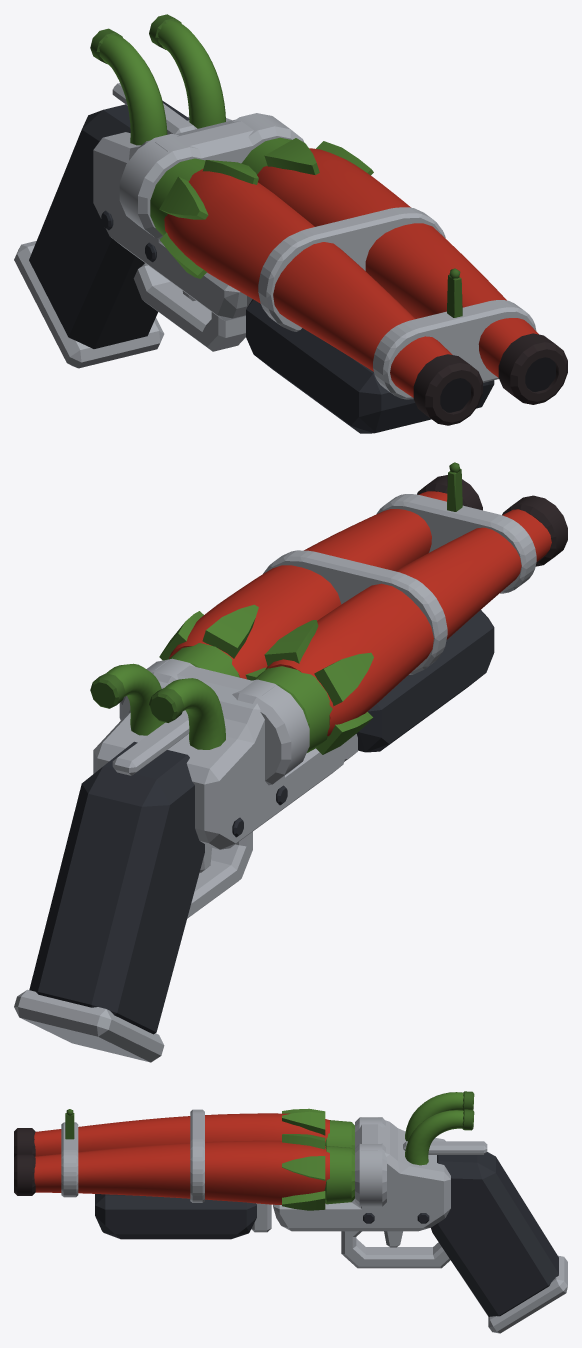
Rendered from w_sawnoff@sawnoff_pepper.glb.
3 views of the same model, one above another, from view 1: azimuth 30°, elevation 25°; view 2: azimuth 150°, elevation 25°; view 3: azimuth 270°, elevation 25° (orthographic). The views are drawn at different scales.
Parts seen in each view (by area): view 1: hinge_wzA__chili__pb52e1f, grip_wzA__dark__p2b2e35, body_wzB__silver__pa3a7ae, hinge_wzN__silver__pa3a7ae, forend_wzA__dark__p2b2e35, hinge_wzN__green__p4d7f30, hinge_trim_wzN__char__p2a2224, body_wzN__silver__pa3a7ae, hammerR_wzN__green__p4d7f30, hammerL_wzN__green__p4d7f30, grip_wzN__silver__pa3a7ae, hinge_trim_wzN__black__p16171b (+1 smaller); view 2: grip_wzA__dark__p2b2e35, hinge_wzA__chili__pb52e1f, body_wzB__silver__pa3a7ae, hinge_wzN__green__p4d7f30, hinge_wzN__silver__pa3a7ae, forend_wzA__dark__p2b2e35, grip_wzN__silver__pa3a7ae, hammerR_wzN__green__p4d7f30, body_wzN__silver__pa3a7ae, hinge_trim_wzN__char__p2a2224, hammerL_wzN__green__p4d7f30, hammerL_wzN__stem__p3d6527 (+1 smaller); view 3: hinge_wzA__chili__pb52e1f, grip_wzA__dark__p2b2e35, body_wzB__silver__pa3a7ae, forend_wzA__dark__p2b2e35, hinge_wzN__green__p4d7f30, body_wzN__silver__pa3a7ae, hinge_wzN__silver__pa3a7ae, grip_wzN__silver__pa3a7ae, hammerL_wzN__green__p4d7f30, hinge_trim_wzN__char__p2a2224, hammerR_wzN__green__p4d7f30, forend_iron_wzN__silver__pa3a7ae.
Boxes of the visible parts, left/top/right/bottom form: hinge_wzA__chili__pb52e1f: left=164, top=148, right=538, bottom=397; grip_wzA__dark__p2b2e35: left=29, top=100, right=189, bottom=348; body_wzB__silver__pa3a7ae: left=93, top=83, right=304, bottom=320; hinge_wzN__silver__pa3a7ae: left=258, top=207, right=536, bottom=399; forend_wzA__dark__p2b2e35: left=246, top=299, right=494, bottom=433; hinge_wzN__green__p4d7f30: left=150, top=137, right=373, bottom=278; hinge_trim_wzN__char__p2a2224: left=413, top=333, right=567, bottom=425; body_wzN__silver__pa3a7ae: left=133, top=263, right=245, bottom=351; hammerR_wzN__green__p4d7f30: left=99, top=35, right=167, bottom=145; hammerL_wzN__green__p4d7f30: left=158, top=20, right=225, bottom=128; grip_wzN__silver__pa3a7ae: left=14, top=241, right=164, bottom=368; hinge_trim_wzN__black__p16171b: left=440, top=357, right=555, bottom=412; grip_wzA__dark__p2b2e35: left=29, top=741, right=204, bottom=1034; hinge_wzA__chili__pb52e1f: left=169, top=491, right=551, bottom=736; body_wzB__silver__pa3a7ae: left=93, top=658, right=349, bottom=849; hinge_wzN__green__p4d7f30: left=159, top=604, right=373, bottom=754; hinge_wzN__silver__pa3a7ae: left=263, top=494, right=536, bottom=674; forend_wzA__dark__p2b2e35: left=356, top=610, right=494, bottom=752; grip_wzN__silver__pa3a7ae: left=14, top=989, right=164, bottom=1062; hammerR_wzN__green__p4d7f30: left=165, top=678, right=225, bottom=749; body_wzN__silver__pa3a7ae: left=187, top=832, right=252, bottom=918; hinge_trim_wzN__char__p2a2224: left=417, top=475, right=567, bottom=566; hammerL_wzN__green__p4d7f30: left=106, top=663, right=164, bottom=735; hammerL_wzN__stem__p3d6527: left=90, top=673, right=125, bottom=708; hinge_wzA__chili__pb52e1f: left=34, top=1113, right=329, bottom=1204; grip_wzA__dark__p2b2e35: left=431, top=1152, right=558, bottom=1316; body_wzB__silver__pa3a7ae: left=273, top=1117, right=487, bottom=1231; forend_wzA__dark__p2b2e35: left=95, top=1194, right=256, bottom=1239; hinge_wzN__green__p4d7f30: left=282, top=1108, right=354, bottom=1210; body_wzN__silver__pa3a7ae: left=341, top=1227, right=450, bottom=1268; hinge_wzN__silver__pa3a7ae: left=61, top=1109, right=204, bottom=1202; grip_wzN__silver__pa3a7ae: left=488, top=1255, right=567, bottom=1333; hammerL_wzN__green__p4d7f30: left=405, top=1110, right=463, bottom=1165; hinge_trim_wzN__char__p2a2224: left=14, top=1128, right=35, bottom=1195; hammerR_wzN__green__p4d7f30: left=405, top=1092, right=463, bottom=1141; forend_iron_wzN__silver__pa3a7ae: left=251, top=1203, right=271, bottom=1232.
Size of the model in its own units: 0.1193 by 0.2126 by 0.4856.
